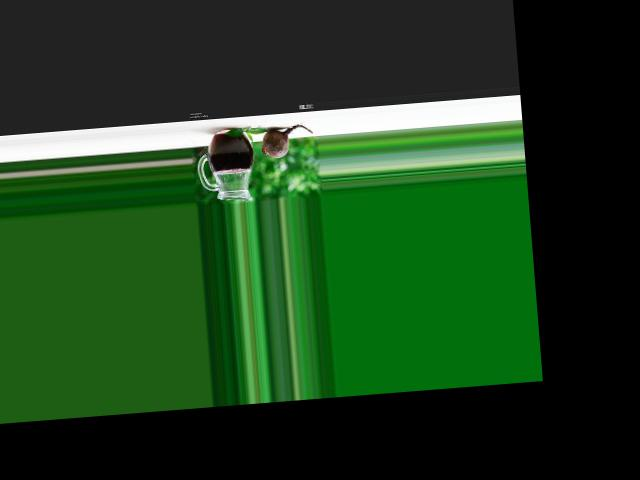beet: (259, 123, 313, 158)
